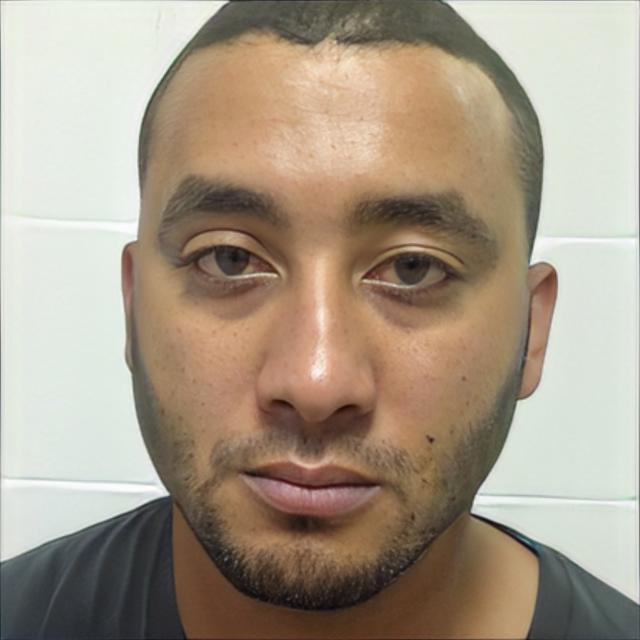neutral: (128, 33, 526, 608)
